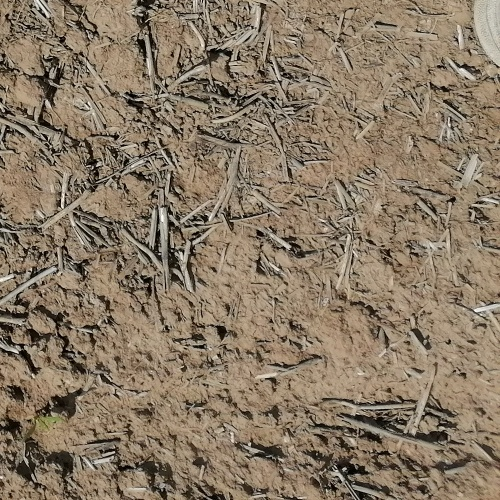beet: (19, 407, 62, 450)
